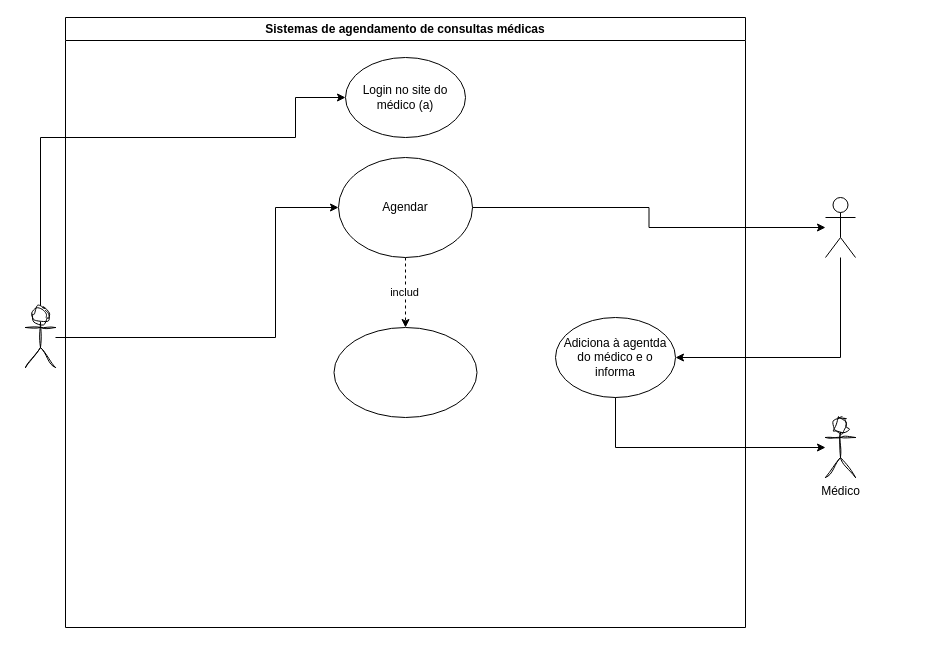
Image size: 925x645. Some labels were removed from this diagram. Here are the shapes that lost their labels. From the top down, the centre of each, then its label:
the point at 840,227: sistema de agendamento
the point at 40,337: Paciente
the point at 405,372: Informação dos documentos RG/CPF e convenio ou consulta particular.
